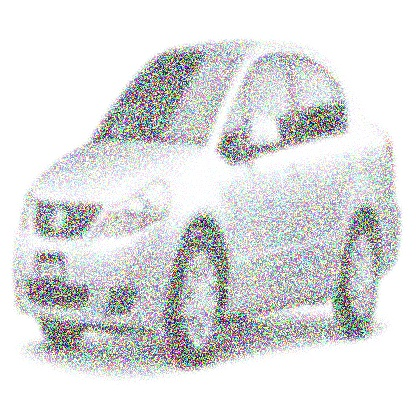Vehicle: (13, 43, 400, 372)
